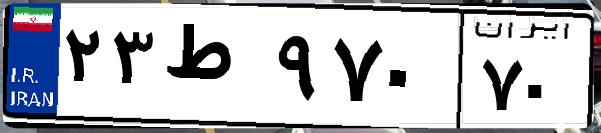0: (385, 28, 445, 110), (525, 38, 570, 115)
2: (57, 26, 110, 100)
3: (110, 28, 158, 98)
7: (330, 28, 385, 110), (475, 38, 525, 113)
9: (270, 28, 330, 110)
ط: (158, 20, 270, 120)
